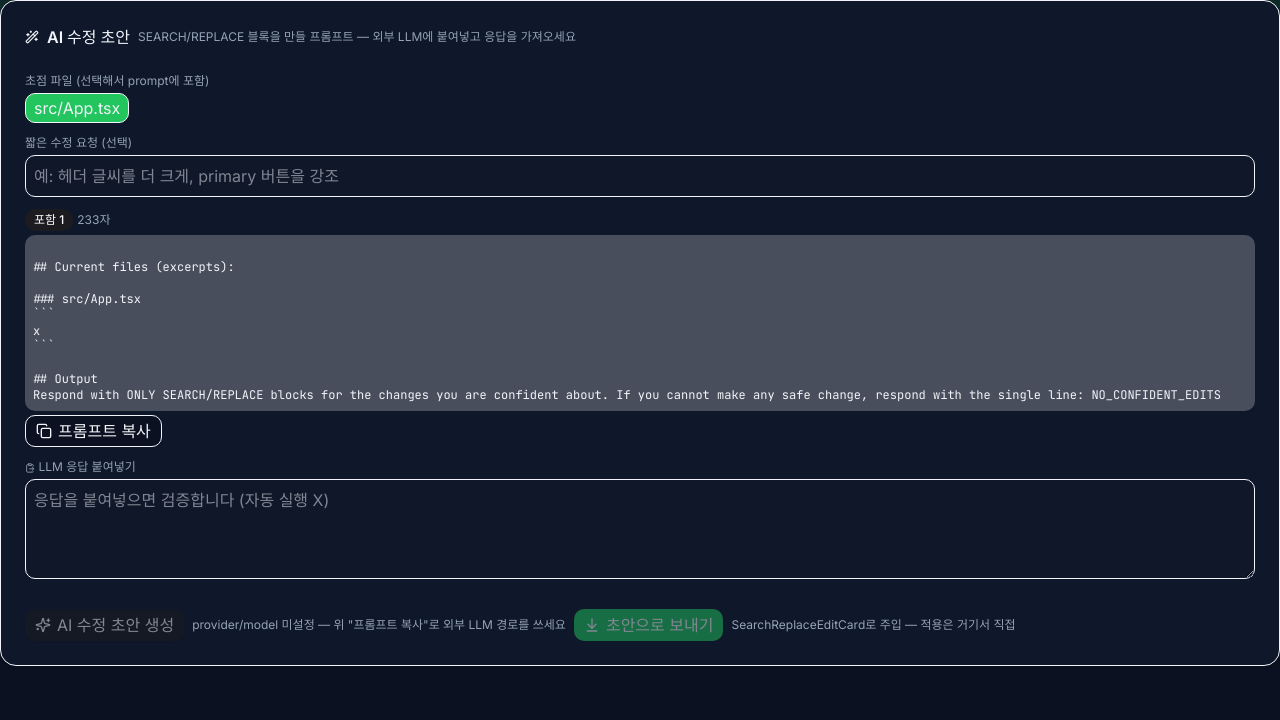
Test case: TurboEditDraftCard — OSS-H5 producer surface › (T3) 사용자 instruction 입력 → prompt 본문에 들어간다
This screenshot has width=1280, height=720.
Type "헤더 크게" into the field with test id "turbo-edits-instruction-t3" at point(640, 176), box 25,155 -> 1255,197
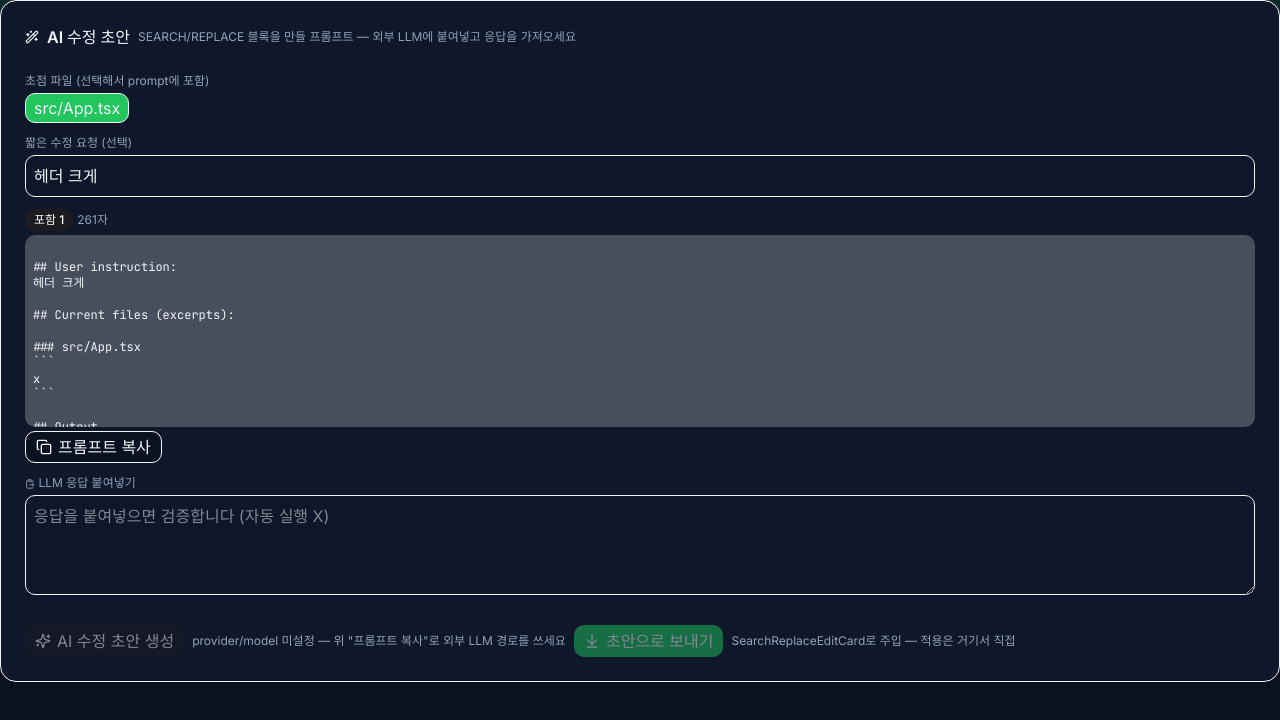
Expected: the text with test id "turbo-edits-prompt-body-t3" shows "헤더 크게", 33,259 -> 1221,451
